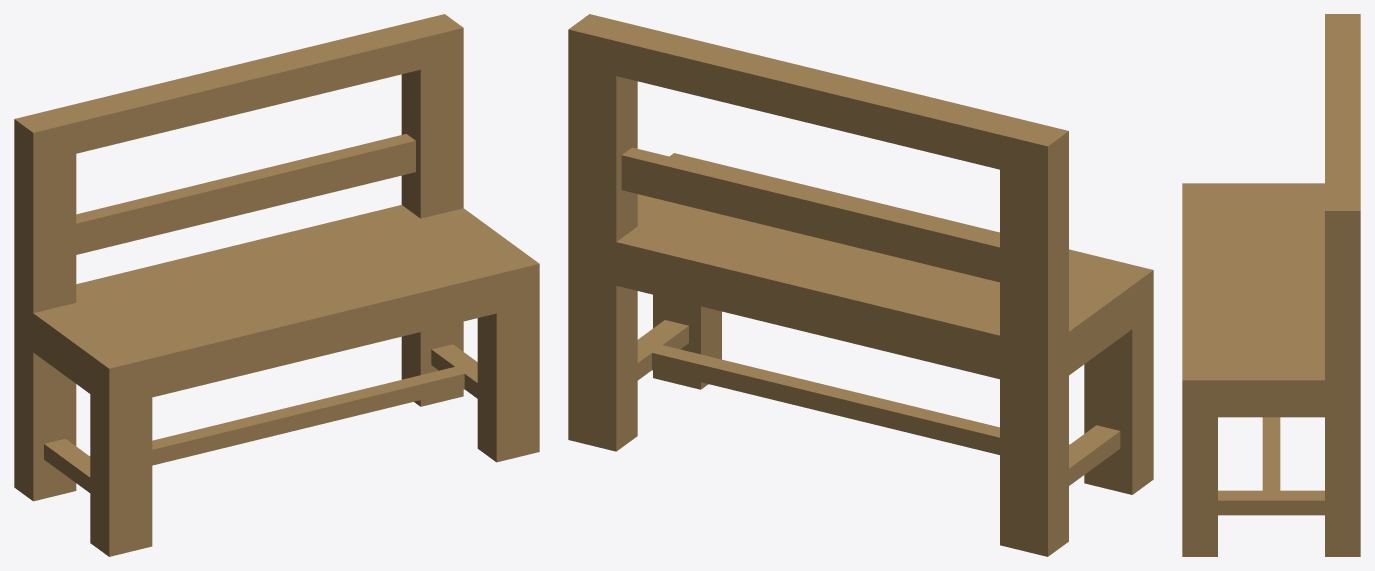
Rendered from bench.glb.
3 renders of one model, left to right at view 1: azimuth 30°, elevation 25°; view 2: azimuth 150°, elevation 25°; view 3: azimuth 270°, elevation 25°, orthographic. The views are drawn at different scales.
Visible parts, largest first — view 1: bench; view 2: bench; view 3: bench.
Part boxes in pixels (x1=…): bench: x1=14, y1=14, x2=539, y2=556; bench: x1=568, y1=14, x2=1153, y2=556; bench: x1=1182, y1=14, x2=1360, y2=556.
Size of the model in its own units: 1.1 by 0.9 by 0.42.
